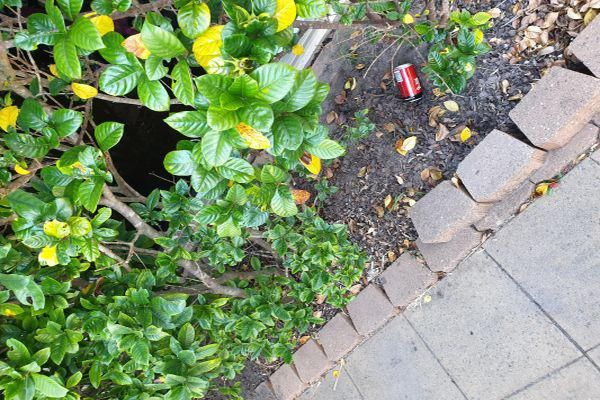Plastic Bottle: (393, 63, 424, 102)
